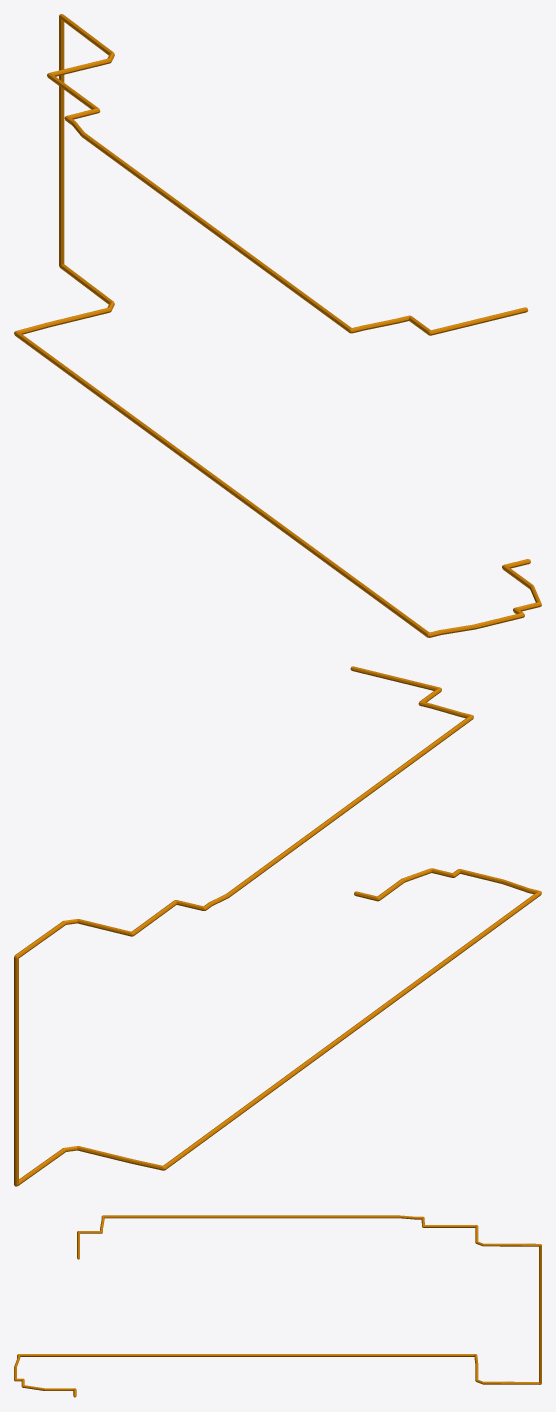
The picture shows the model from 3 angles, top to bottom: view 1: azimuth 30°, elevation 25°; view 2: azimuth 150°, elevation 25°; view 3: azimuth 270°, elevation 25°; orthographic projection. The views are drawn at different scales.
Bounding box in the file's own units: 660 × 1020 × 3465.
